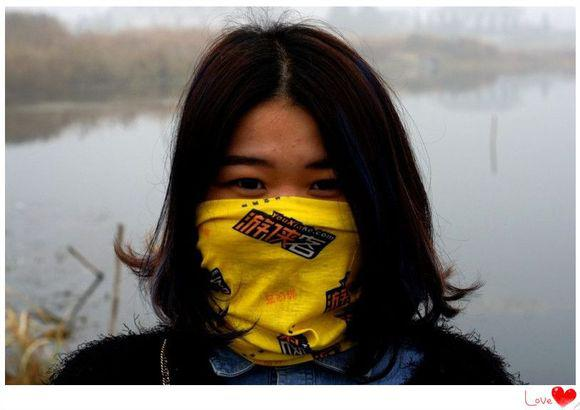OK: (202, 146, 369, 297)
